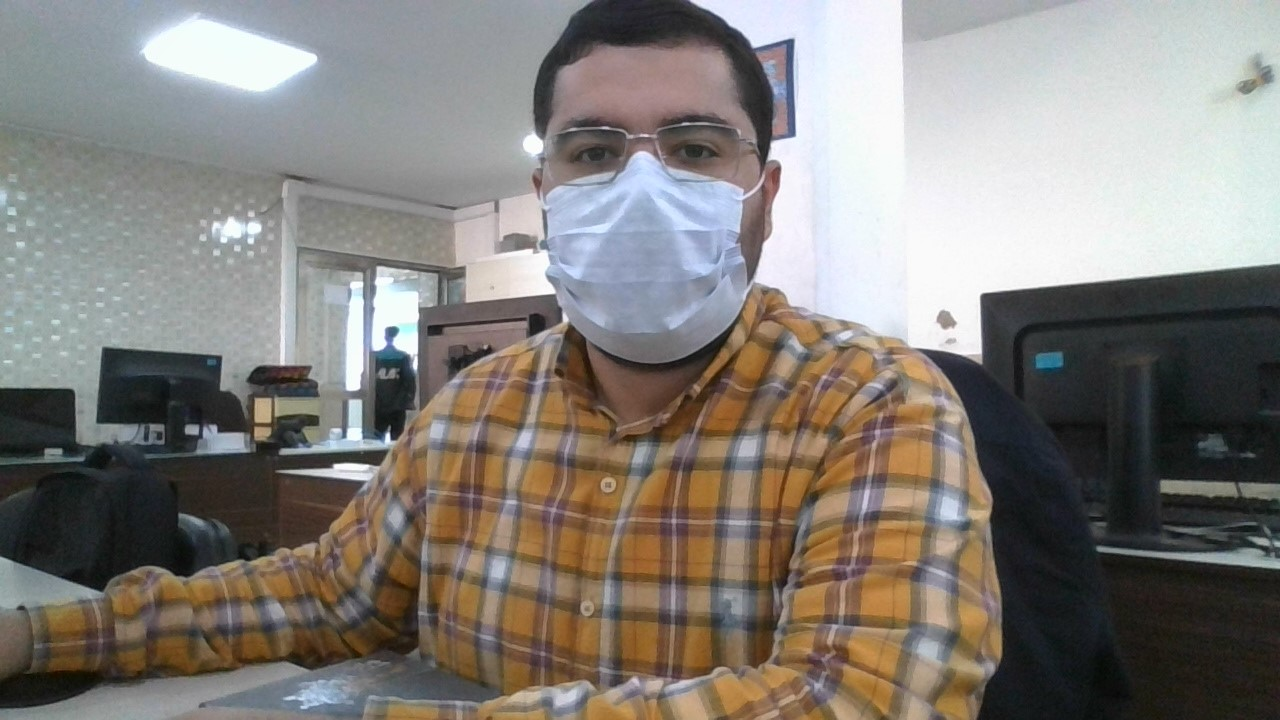Mask: (541, 149, 761, 366)
